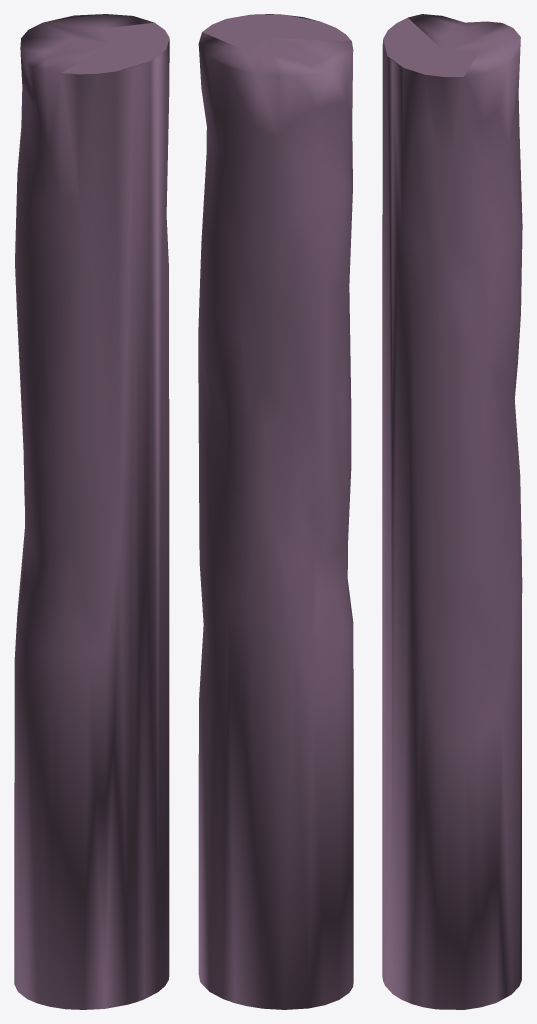
Rendered from pole.glb.
The picture shows the model from 3 angles, left to right: view 1: azimuth 30°, elevation 25°; view 2: azimuth 150°, elevation 25°; view 3: azimuth 270°, elevation 25°; orthographic projection.
Parts seen in each view (by area): view 1: Cylinder.007; view 2: Cylinder.007; view 3: Cylinder.007.
Boxes of the visible parts, x1=… form: Cylinder.007: x1=14, y1=14, x2=169, y2=1009; Cylinder.007: x1=198, y1=14, x2=353, y2=1009; Cylinder.007: x1=382, y1=14, x2=522, y2=1009.
Bounding box in the file's own units: 2.93 × 18.9 × 2.57.
